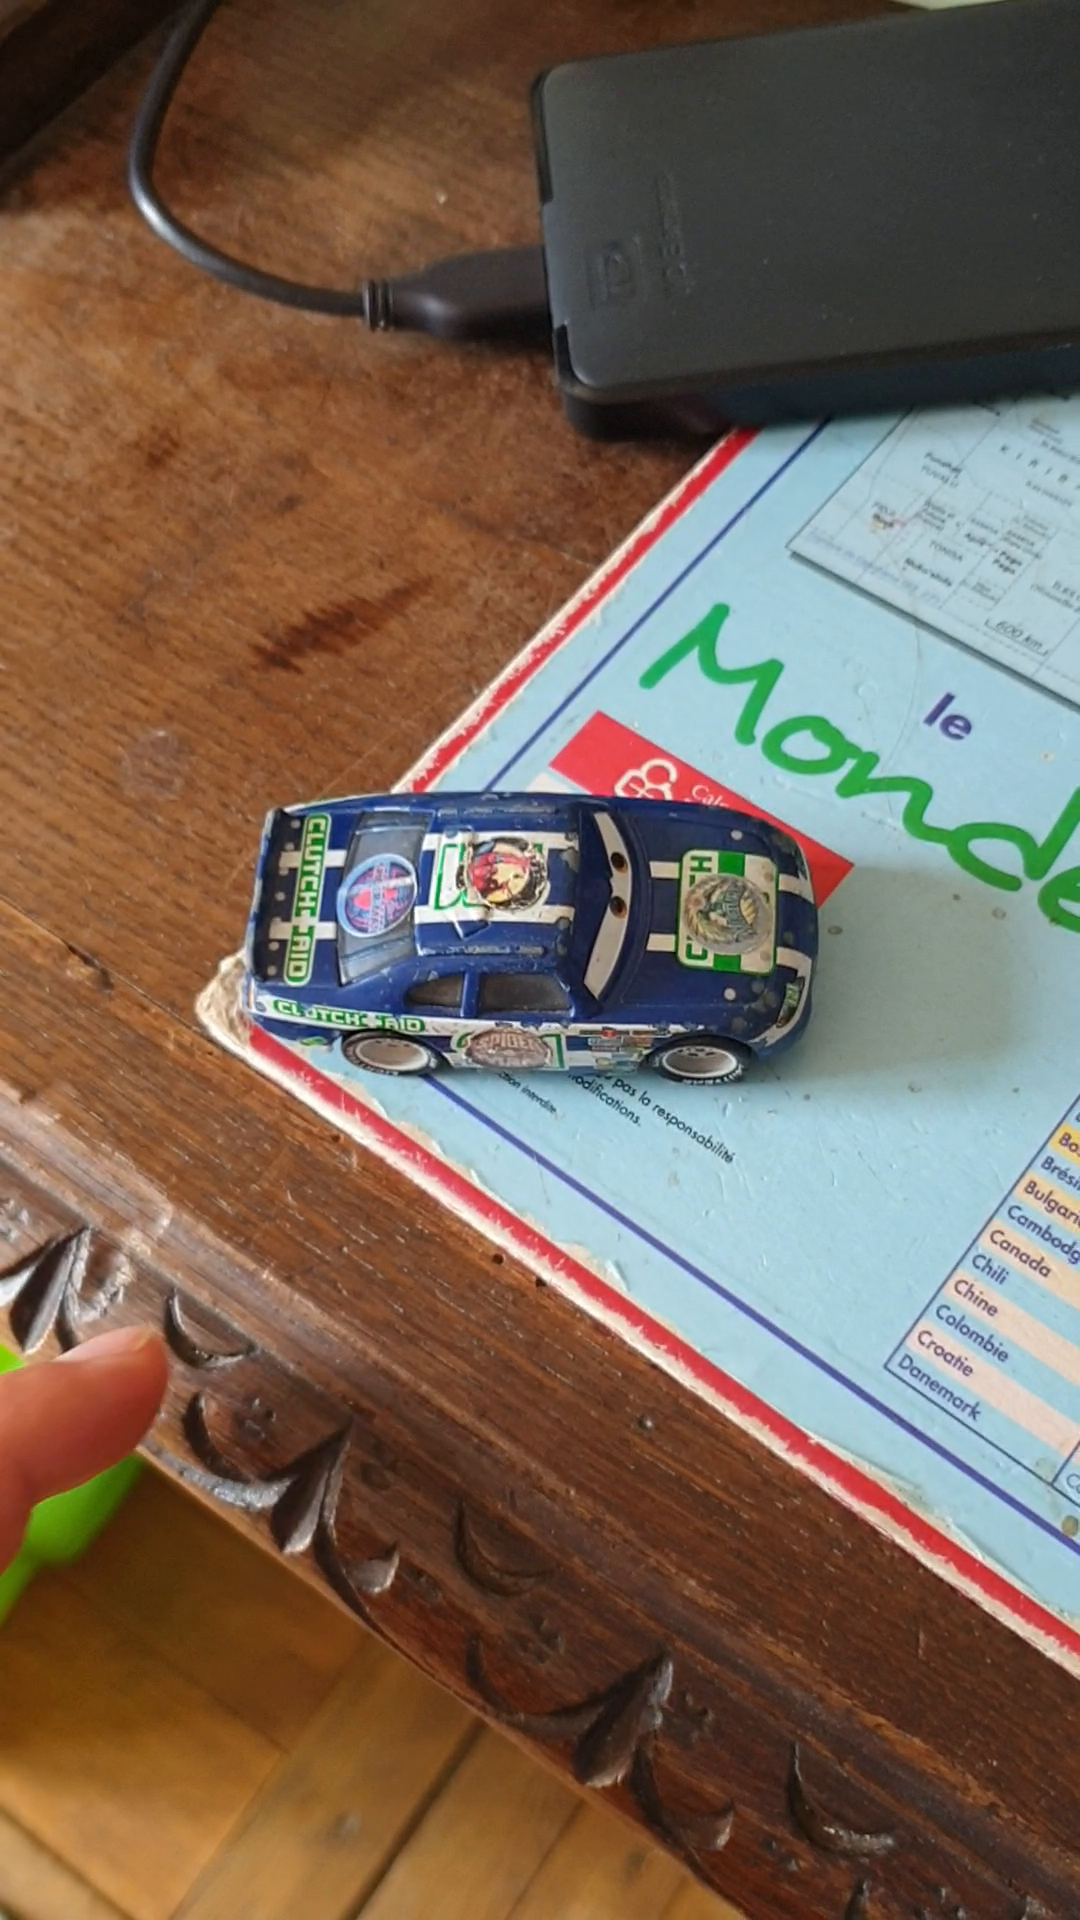cars: (251, 787, 814, 1084)
